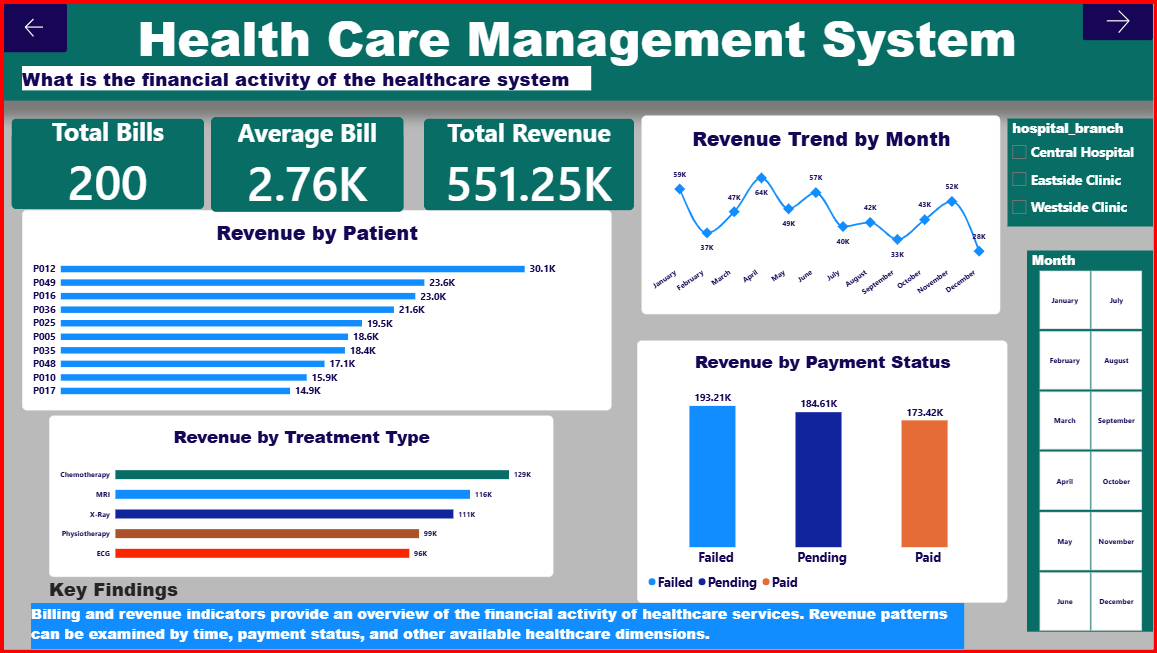

Layout of this report page (visuals, bound fields, positions):
{"tool":"powerbi","page":{"name":"BILLING & REVENUE","canvas":[1920,1080],"ordinal":3},"visuals":[{"type":"textbox","title":" Health Care Management System","box":[0,0,1920,162.5],"z":0},{"type":"clusteredBarChart","title":"Revenue by Treatment Type","fields":{"Category":["cleaned_treatments.treatment_type"],"Y":["Descriptive Analys.Revenue by Treatment"]},"box":[79.3,687,840.7,269],"z":1000},{"type":"columnChart","title":"Revenue by Payment Status","fields":{"Category":["cleaned_billing.payment_status"],"Series":["cleaned_billing.payment_status"],"Y":["Descriptive Analys.Total Revenue"]},"box":[1059.3,562.1,617.3,437.2],"z":2000},{"type":"clusteredBarChart","title":"Revenue by Patient","fields":{"Category":["cleaned_patients.patient_id"],"Y":["Descriptive Analys.Total Revenue"]},"box":[35,345,982.4,333.9],"z":3000},{"type":"slicer","fields":{"Values":["cleaned_doctors.hospital_branch"]},"box":[1676.6,192.2,242.6,180.2],"z":4000},{"type":"slicer","fields":{"Values":["DateTable.Month"]},"box":[1710,412.5,210,635],"z":5000},{"type":"shape","title":"Key Findings","box":[80,955,400,45],"z":6000},{"type":"textbox","title":"What is the financial activity of the healthcare system","box":[36,105.7,948.8,40.8],"z":7000},{"type":"actionButton","box":[1802.5,0,117.5,62.5],"z":8000},{"type":"actionButton","box":[0,0,110,82.5],"z":9000},{"type":"lineChart","title":"Revenue Trend by Month","fields":{"Category":["DateTable.Month"],"Y":["Descriptive Analys.Total Revenue"]},"box":[1066.5,187.4,598.1,331.5],"z":10000},{"type":"cardVisual","fields":{"Data":["Descriptive Analys.Total Bills"]},"box":[16.8,192.2,321.9,151.3],"z":11000},{"type":"cardVisual","fields":{"Data":["Descriptive Analys.Total Revenue"]},"box":[703.8,192.2,350.7,153.7],"z":12000},{"type":"cardVisual","fields":{"Data":["Descriptive Analys.Avarege Bill"]},"box":[350.7,189.8,321.9,158.5],"z":13000},{"type":"shape","title":"Billing and revenue indicators provide an overview of the financial activity of healthcare services. Revenue patterns can be examined by time, payment status, and other available healthcare dimensions","box":[50,1000,1555,80],"z":14000}]}

Visuals, with their boxes in screenshot pixels (x1, y1, x2, y2), scaled from the page's 1920x1080 canvas onto the 1157x653 screenshot:
" Health Care Management System" textbox: (0, 0, 1156, 98)
"Revenue by Treatment Type" clusteredBarChart: (48, 415, 554, 578)
"Revenue by Payment Status" columnChart: (638, 340, 1010, 604)
"Revenue by Patient" clusteredBarChart: (21, 209, 613, 410)
slicer - cleaned_doctors.hospital_branch: (1010, 116, 1156, 225)
slicer - DateTable.Month: (1030, 249, 1156, 633)
"Key Findings" shape: (48, 577, 289, 605)
"What is the financial activity of the healthcare system" textbox: (22, 64, 593, 89)
actionButton: (1086, 0, 1156, 38)
actionButton: (0, 0, 66, 50)
"Revenue Trend by Month" lineChart: (643, 113, 1003, 314)
cardVisual - Descriptive Analys.Total Bills: (10, 116, 204, 208)
cardVisual - Descriptive Analys.Total Revenue: (424, 116, 635, 209)
cardVisual - Descriptive Analys.Avarege Bill: (211, 115, 405, 211)
"Billing and revenue indicators provide an overview of the financial activity of healthcare services. Revenue patterns can be examined by time, payment status, and other available healthcare dimensions" shape: (30, 605, 967, 652)
